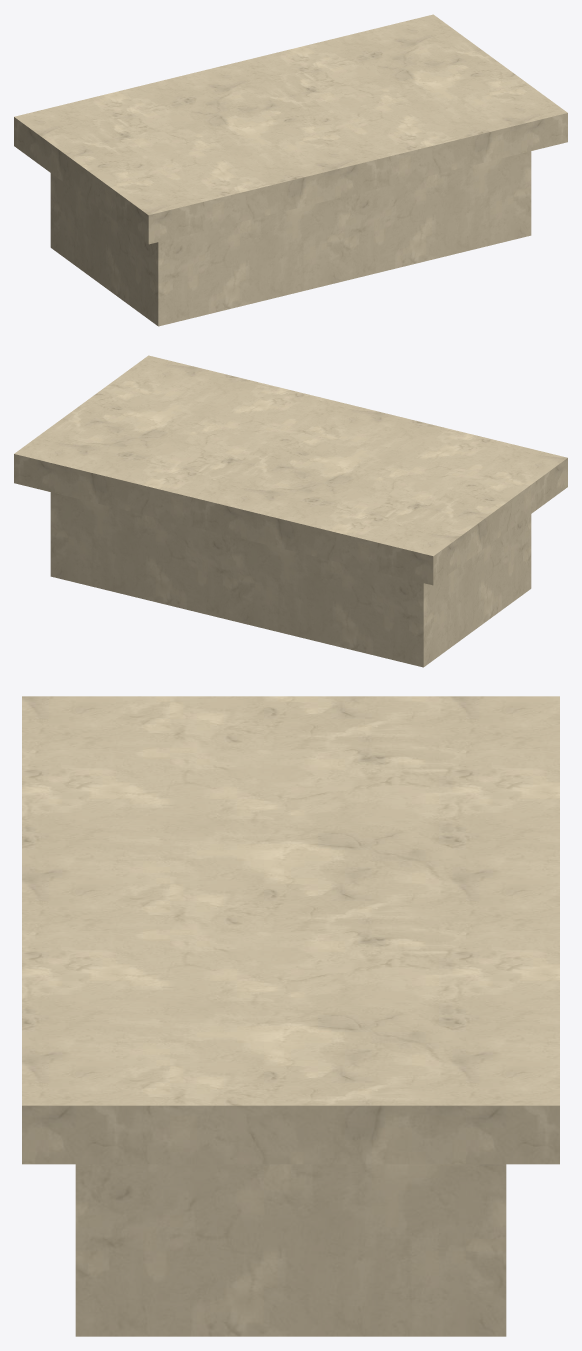
Rendered from attic.glb.
3 views of the same model, one above another, from view 1: azimuth 30°, elevation 25°; view 2: azimuth 150°, elevation 25°; view 3: azimuth 270°, elevation 25° (orthographic). The views are drawn at different scales.
Visible parts, largest first — view 1: attic; view 2: attic; view 3: attic.
Boxes of the visible parts, bbox=[...] form: attic: bbox=[14, 14, 567, 326]; attic: bbox=[14, 355, 567, 667]; attic: bbox=[22, 696, 559, 1336].
Bounding box in the file's own units: 4.5 × 1.3 × 2.5.
Materials: 1 (1 with a texture image).
